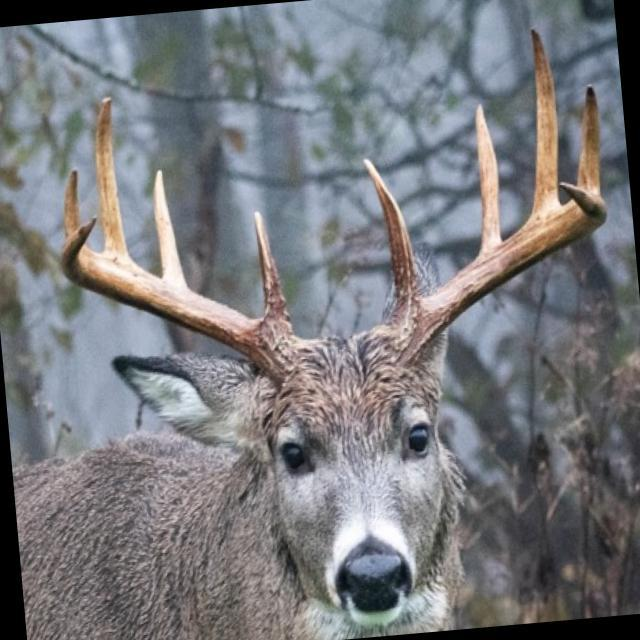L-F: (389, 183, 607, 368)
L-G1: (362, 157, 420, 310)
L-G2: (474, 102, 501, 252)
L-G3: (529, 28, 560, 214)
R-F: (58, 215, 305, 391)
R-G1: (253, 209, 294, 334)
R-G2: (152, 168, 188, 288)
R-G3: (93, 95, 130, 260)
